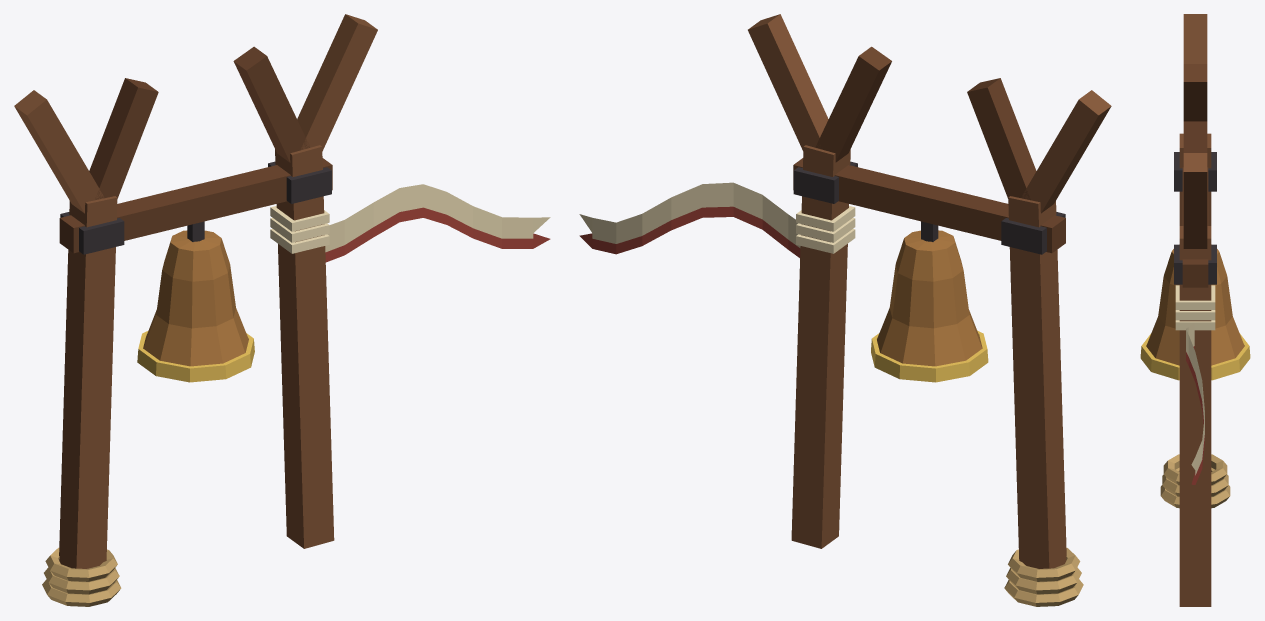
The model's file is belfry-restored.glb.
3 views of the same model, side by side, from view 1: azimuth 30°, elevation 25°; view 2: azimuth 150°, elevation 25°; view 3: azimuth 270°, elevation 25° (orthographic). The views are drawn at different scales.
Visible parts, largest first — view 1: belfry-restored, bell; view 2: belfry-restored, bell; view 3: belfry-restored, bell.
Part boxes in pixels (<box>): belfry-restored: <box>14,14,550,606</box>; bell: <box>137,230,254,382</box>; belfry-restored: <box>579,14,1111,606</box>; bell: <box>871,230,988,382</box>; belfry-restored: <box>1160,14,1230,606</box>; bell: <box>1140,249,1250,380</box>.
Bounding box in the file's own units: 3.51 × 3.24 × 0.692.
